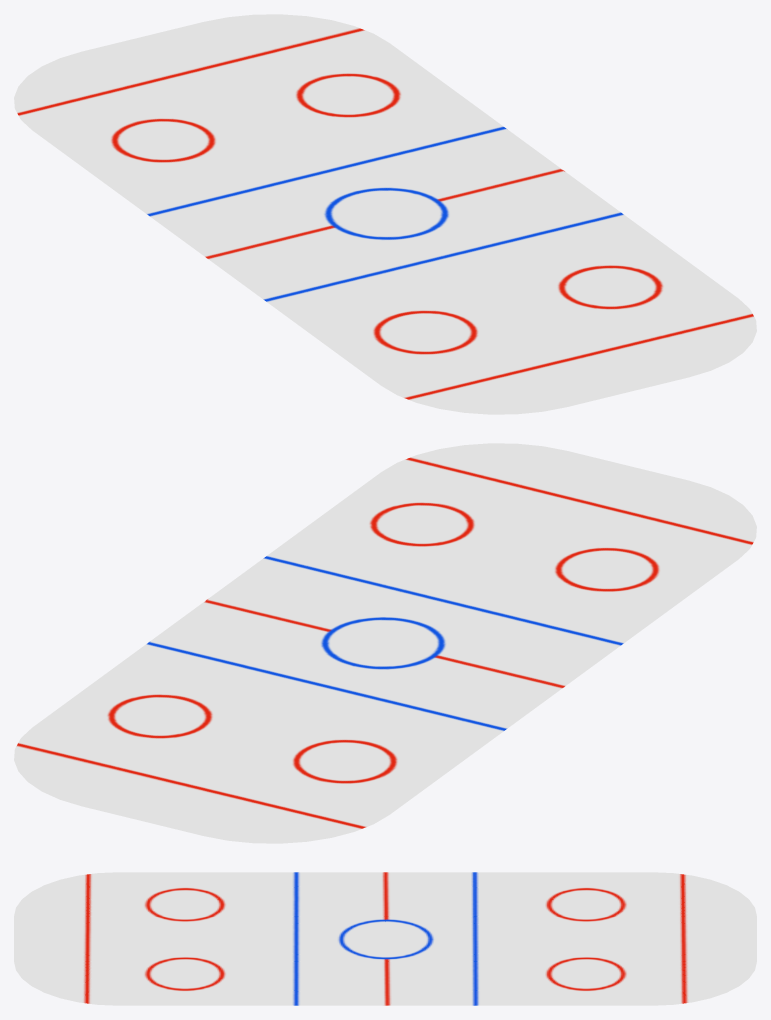
Rendered from Ice.dae.
The picture shows the model from 3 angles, top to bottom: view 1: azimuth 30°, elevation 25°; view 2: azimuth 150°, elevation 25°; view 3: azimuth 270°, elevation 25°; orthographic projection. The views are drawn at different scales.
Visible parts, largest first — view 1: Ice; view 2: Ice; view 3: Ice.
Part boxes in pixels (x1,y1,x2,y2): Ice: (14, 14, 756, 414); Ice: (14, 443, 756, 843); Ice: (14, 872, 756, 1005).
Size of the model in its own units: 85 by 200 by 0.
Materials: 1 (1 with a texture image).
